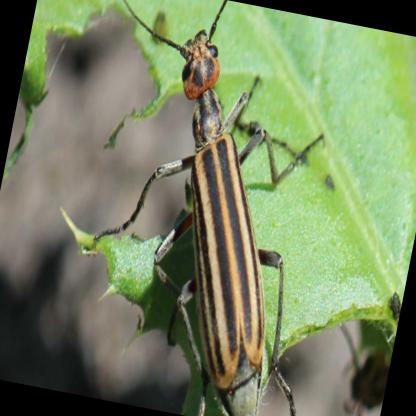blister beetle: (91, 0, 282, 416)
